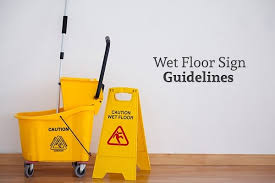wet caution sign: (93, 86, 151, 182)
